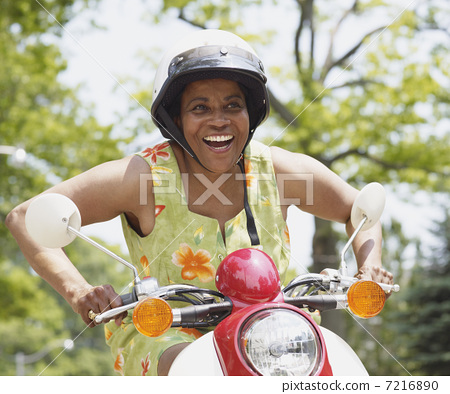helmet: (153, 34, 279, 130)
